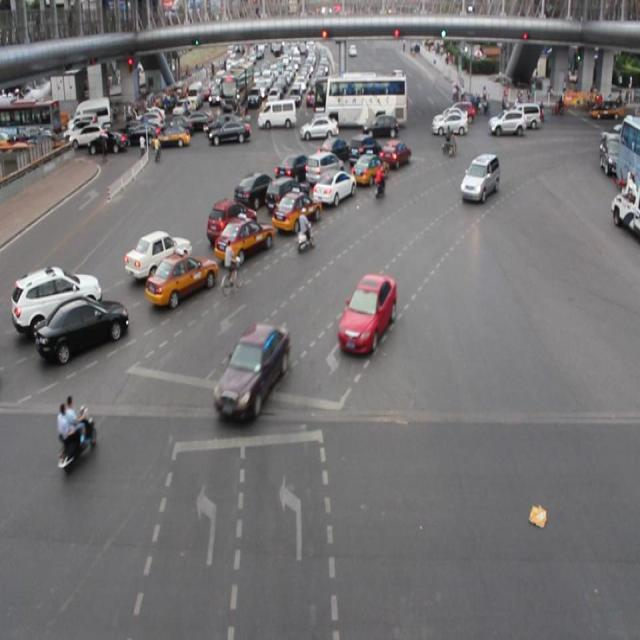car: (11, 270, 106, 334), (34, 297, 130, 360), (216, 326, 288, 408), (340, 273, 396, 347), (122, 230, 192, 282), (145, 256, 217, 303), (214, 216, 276, 262), (204, 194, 257, 246), (460, 154, 499, 206), (273, 193, 322, 234), (265, 172, 310, 214), (234, 172, 278, 208), (313, 168, 354, 206), (351, 150, 386, 188), (316, 136, 352, 172), (306, 152, 343, 187), (276, 153, 314, 185), (347, 130, 382, 163), (379, 138, 413, 170)
